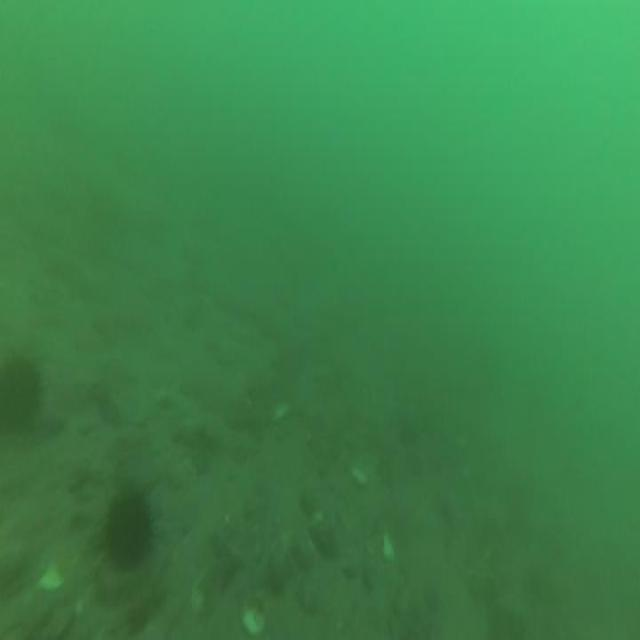echinus: (100, 485, 158, 575), (0, 351, 46, 442)
